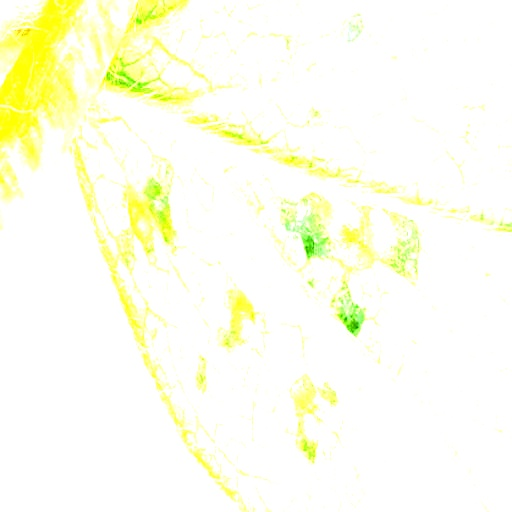Angular Leafspot: (93, 3, 444, 470)
